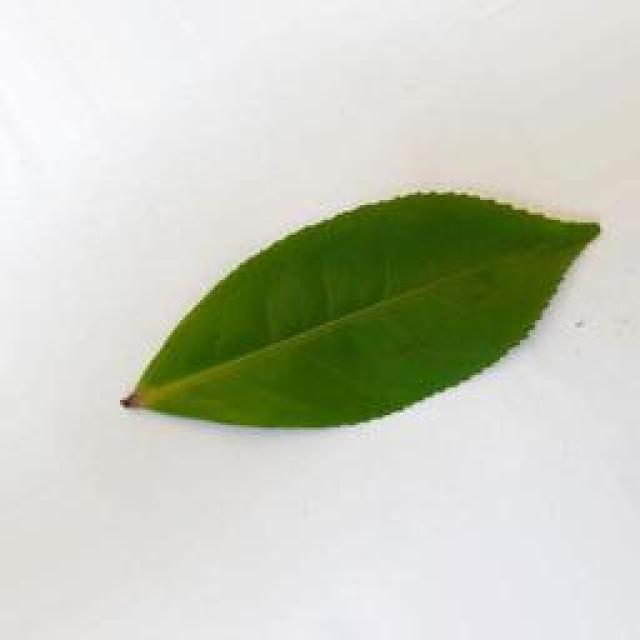Healthy: (126, 187, 608, 436)
